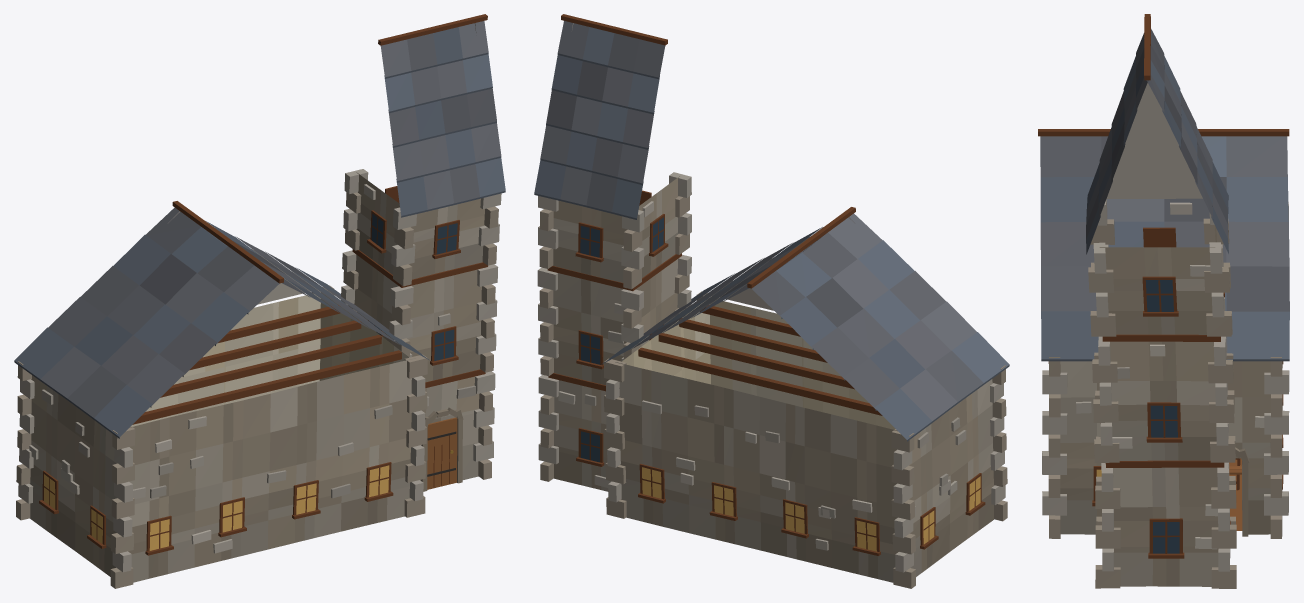
File: chapel.glb
3 renders of one model, left to right at view 1: azimuth 30°, elevation 25°; view 2: azimuth 150°, elevation 25°; view 3: azimuth 270°, elevation 25°, orthographic. The views are drawn at different scales.
Visible parts, largest first — view 1: buildings/chapel; view 2: buildings/chapel; view 3: buildings/chapel.
Boxes of the visible parts, bbox=[...] form: buildings/chapel: bbox=[14, 14, 505, 588]; buildings/chapel: bbox=[534, 14, 1009, 588]; buildings/chapel: bbox=[1038, 14, 1289, 588].
Bounding box in the file's own units: 12.72 × 13.05 × 5.69.
